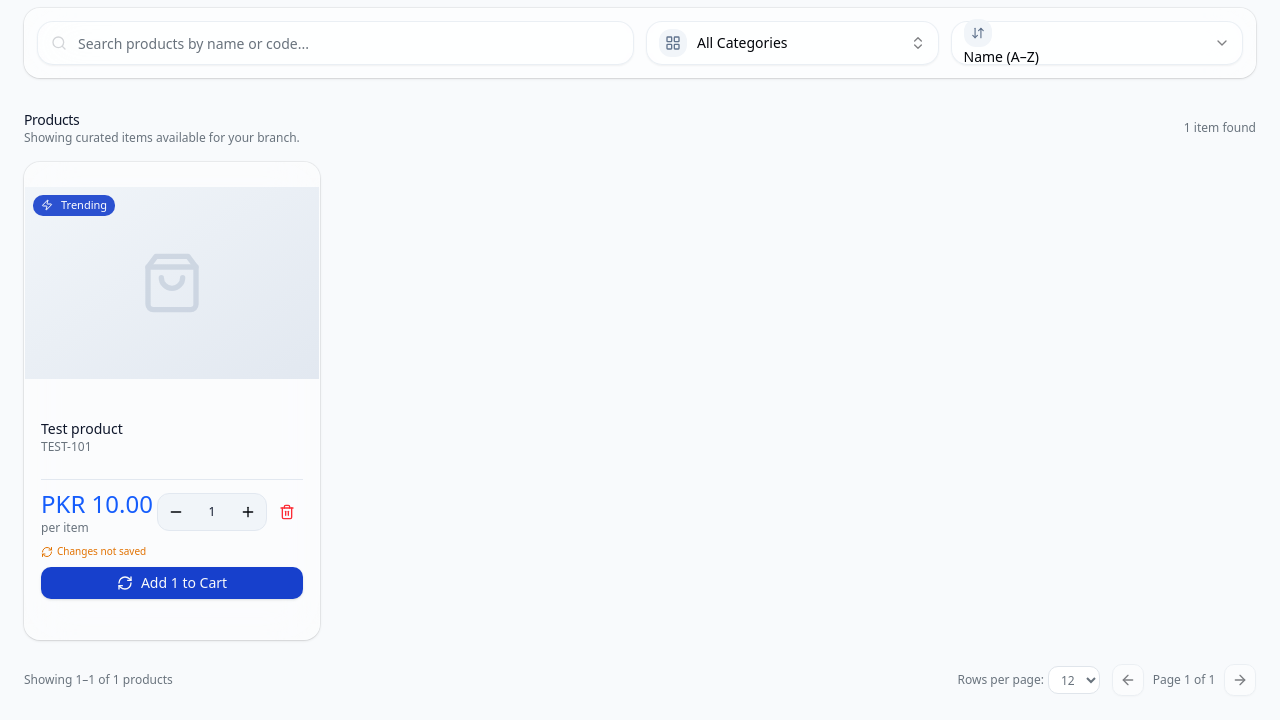
OrderPortalPage cart dialog › closes the dialog and removes its open overlay when the last item is removed
(page scrolled)
Click the button "Add 1 to Cart" at (172, 583), box [41,567,303,599]
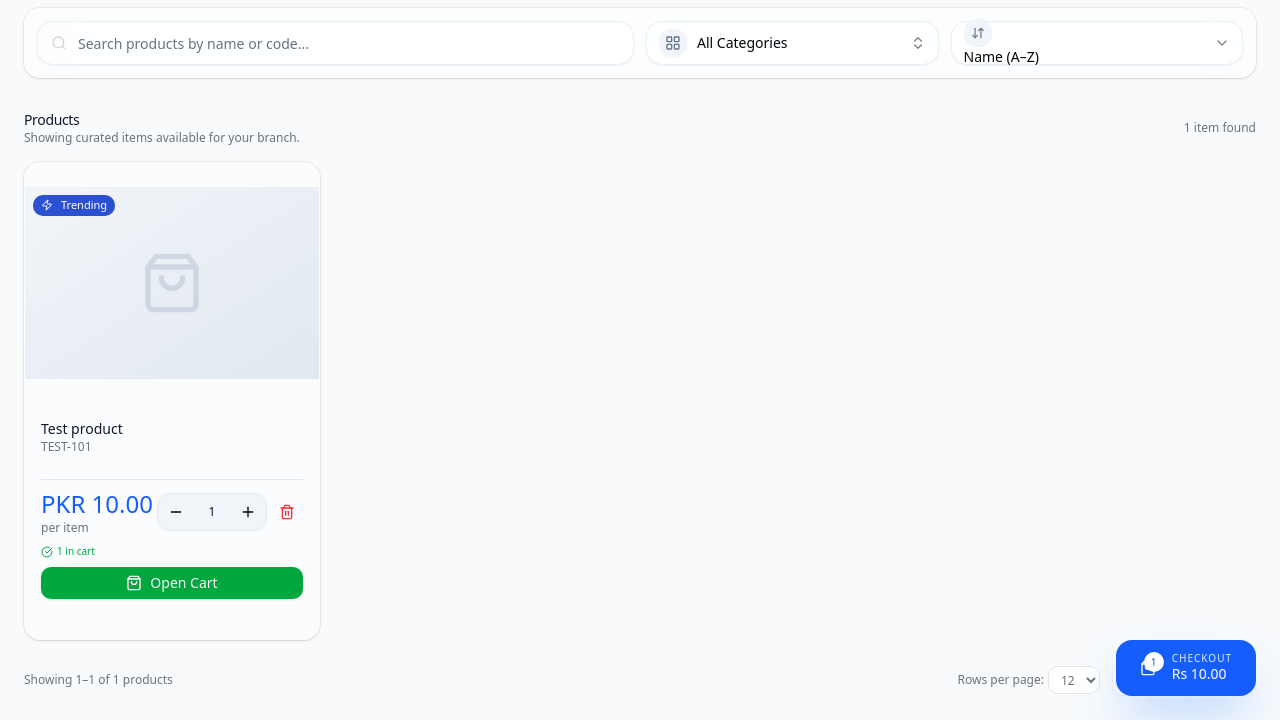
Click the button "Open Cart" at (172, 583), box [41,567,303,599]
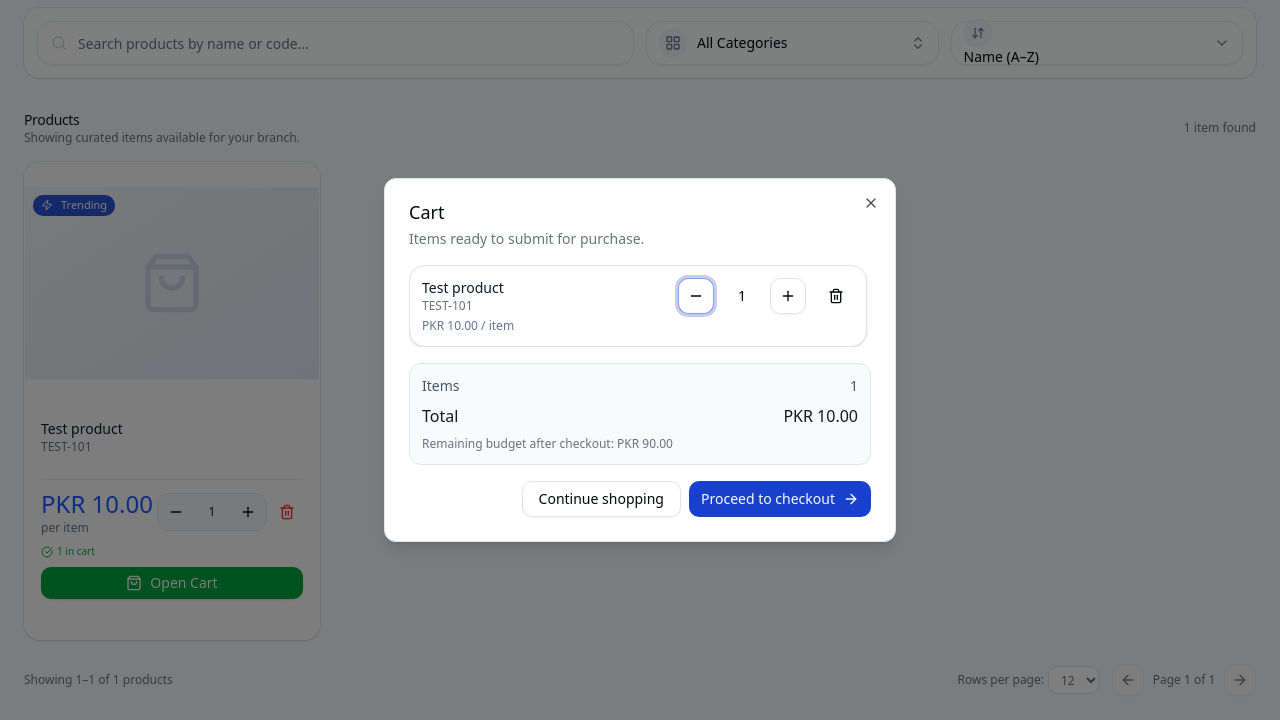
Result: the dialog is shown at [384,178,896,542]
Click the button titled "Remove" at (836, 296), box [818,278,854,314]
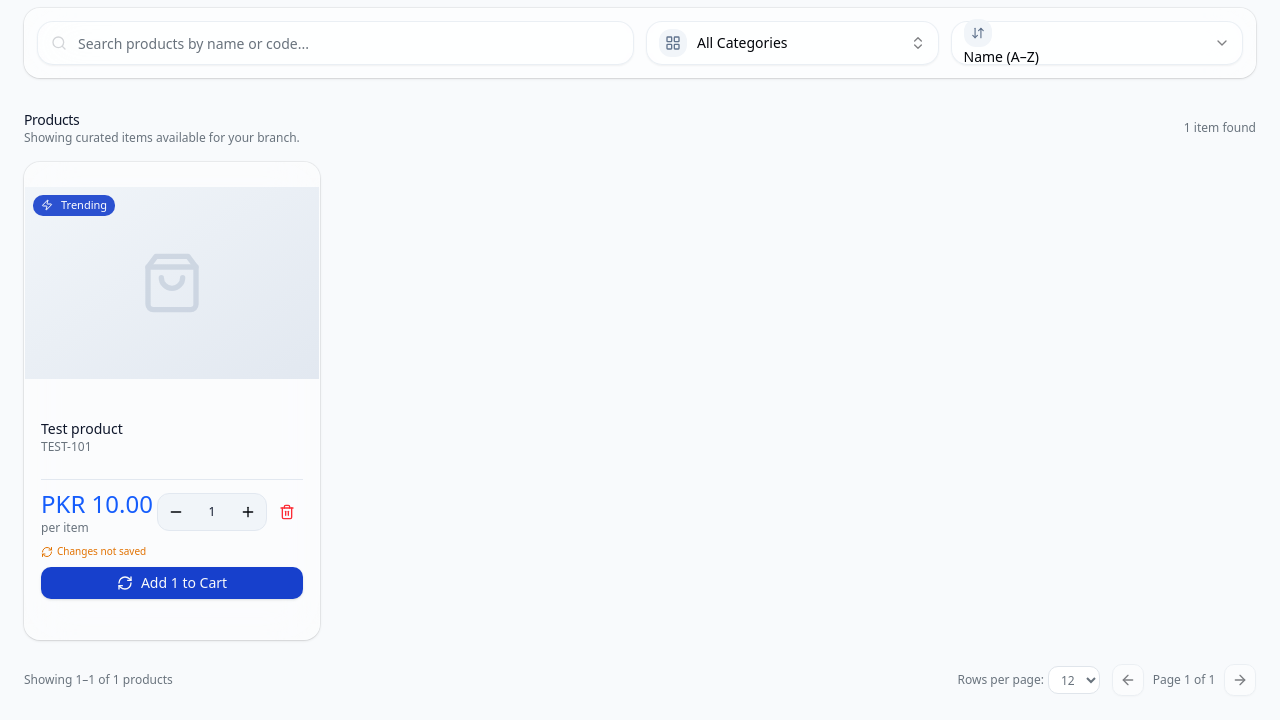
Result: the dialog is gone
